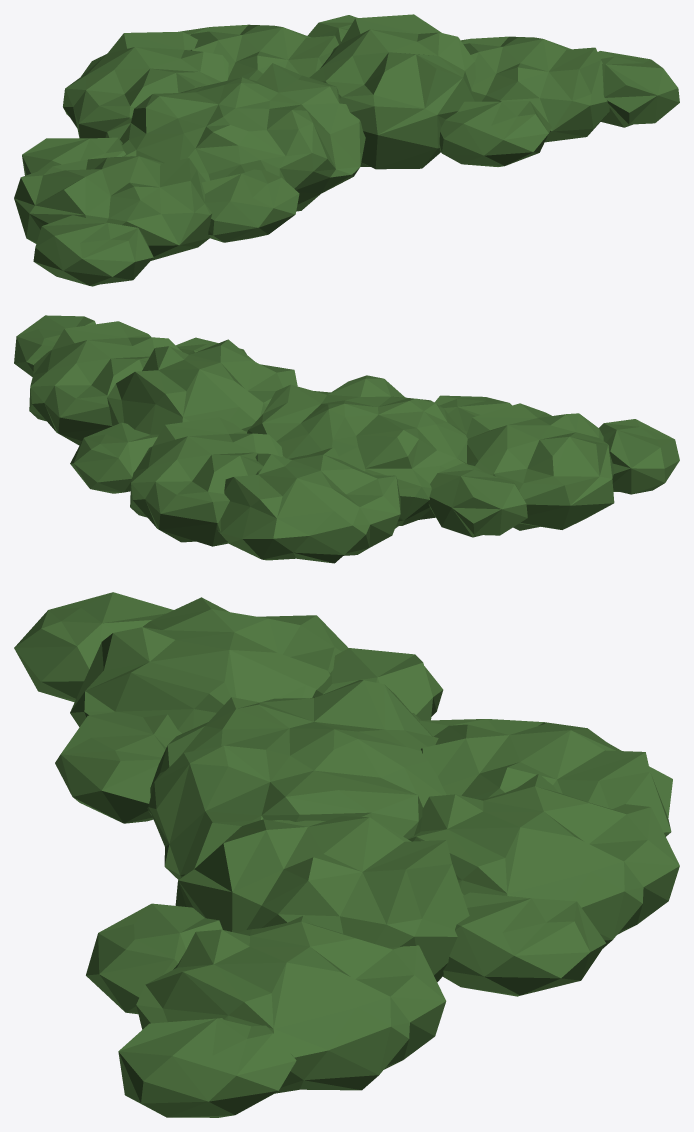
The model's file is SM_Env_Tree_Canopy_02.glb.
3 renders of one model, top to bottom at view 1: azimuth 30°, elevation 25°; view 2: azimuth 150°, elevation 25°; view 3: azimuth 270°, elevation 25°, orthographic. The views are drawn at different scales.
Parts seen in each view (by area): view 1: SM_Env_Tree_Canopy_02_part00; view 2: SM_Env_Tree_Canopy_02_part00; view 3: SM_Env_Tree_Canopy_02_part00.
Part boxes in pixels (x1,y1,x2,y2): SM_Env_Tree_Canopy_02_part00: (14, 14, 679, 286); SM_Env_Tree_Canopy_02_part00: (14, 315, 679, 563); SM_Env_Tree_Canopy_02_part00: (14, 592, 679, 1117).
Size of the model in its own units: 25.64 by 4.93 by 14.89.
Materials: 1 (1 with a texture image).
